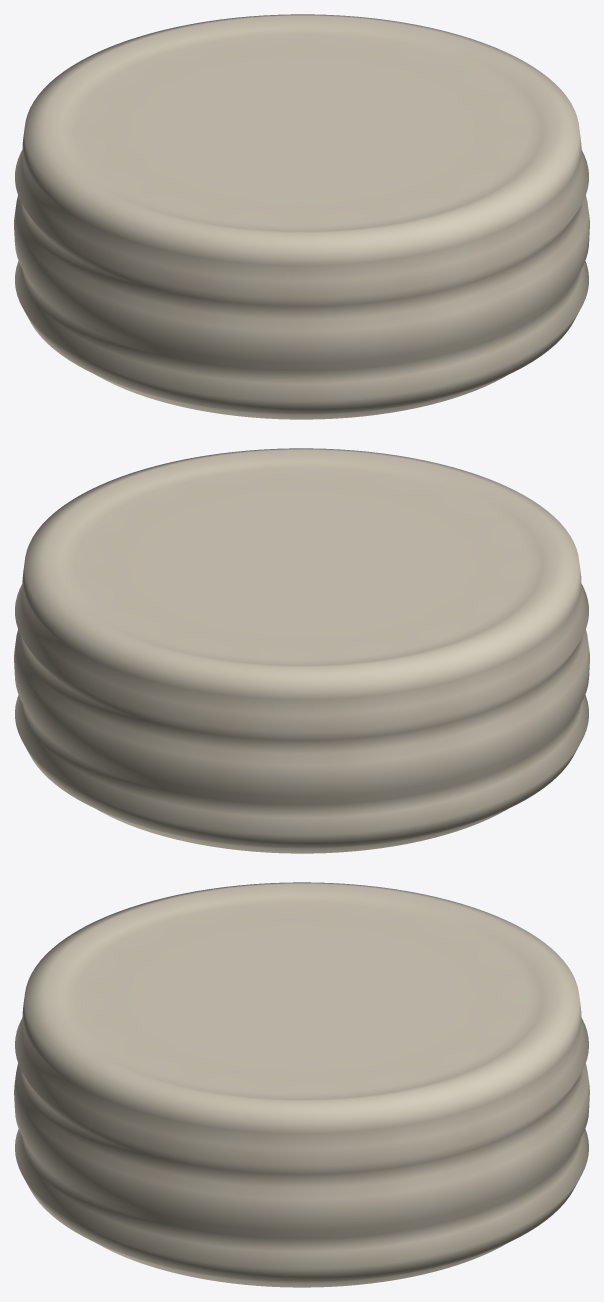
The model's file is cake.glb.
The picture shows the model from 3 angles, top to bottom: view 1: azimuth 30°, elevation 25°; view 2: azimuth 150°, elevation 25°; view 3: azimuth 270°, elevation 25°; orthographic projection.
Bounding box in the file's own units: 0.2558 × 0.0927 × 0.2558.
